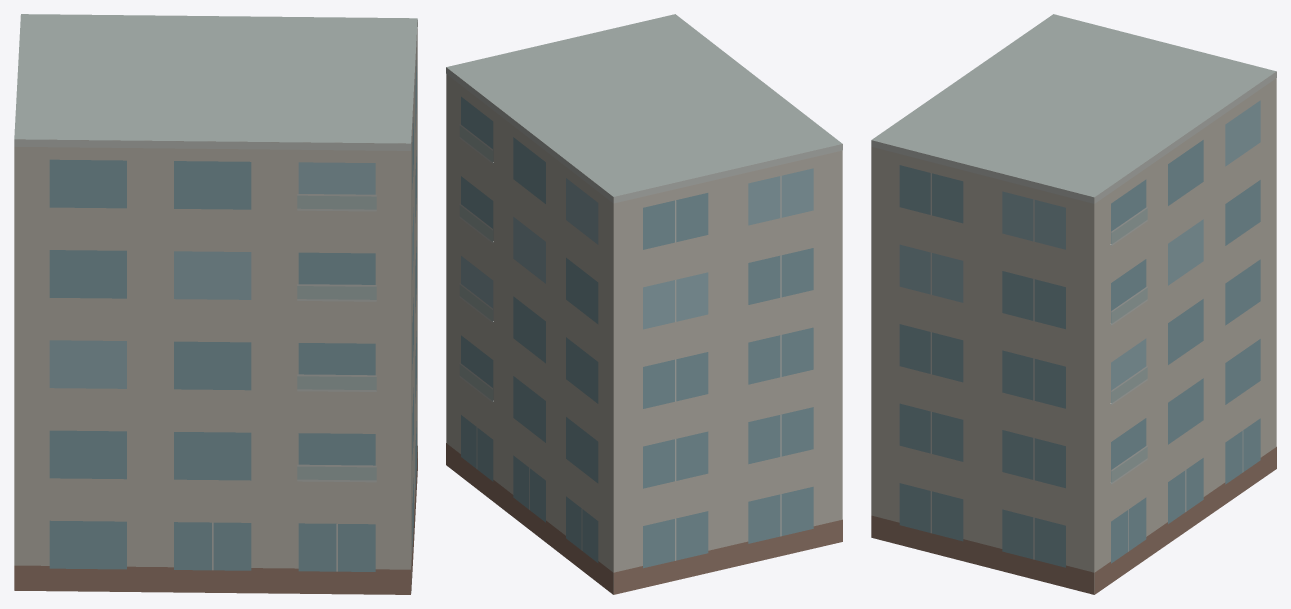
Rendered from survey-upis-32846941.glb.
The picture shows the model from 3 angles, left to right: view 1: azimuth 30°, elevation 25°; view 2: azimuth 150°, elevation 25°; view 3: azimuth 270°, elevation 25°; orthographic projection. The views are drawn at different scales.
Parts seen in each view (by area): view 1: survey-upis-32846941.tmp; view 2: survey-upis-32846941.tmp; view 3: survey-upis-32846941.tmp.
Part boxes in pixels (x1,y1,x2,y2): survey-upis-32846941.tmp: [14, 14, 417, 594]; survey-upis-32846941.tmp: [446, 14, 842, 594]; survey-upis-32846941.tmp: [871, 14, 1276, 594].
Bounding box in the file's own units: 14.6 × 14.75 × 13.65.
